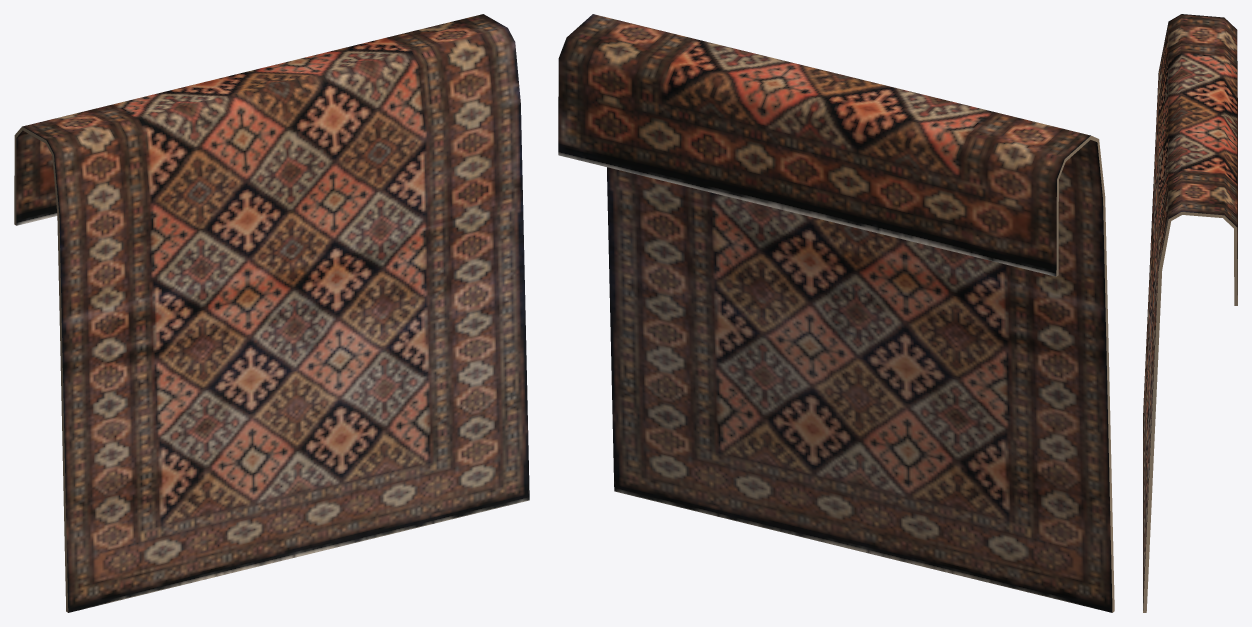
File: Carpet1.fbx
The picture shows the model from 3 angles, left to right: view 1: azimuth 30°, elevation 25°; view 2: azimuth 150°, elevation 25°; view 3: azimuth 270°, elevation 25°; orthographic projection. The views are drawn at different scales.
Parts seen in each view (by area): view 1: Carpet1; view 2: Carpet1; view 3: Carpet1.
Boxes of the visible parts, box(x1,y1,x2,y2) form: Carpet1: box(14, 14, 529, 612); Carpet1: box(558, 14, 1114, 612); Carpet1: box(1143, 14, 1237, 612).
Size of the model in its own units: 276 by 261 by 56.03.
Materials: 1 (1 with a texture image).
